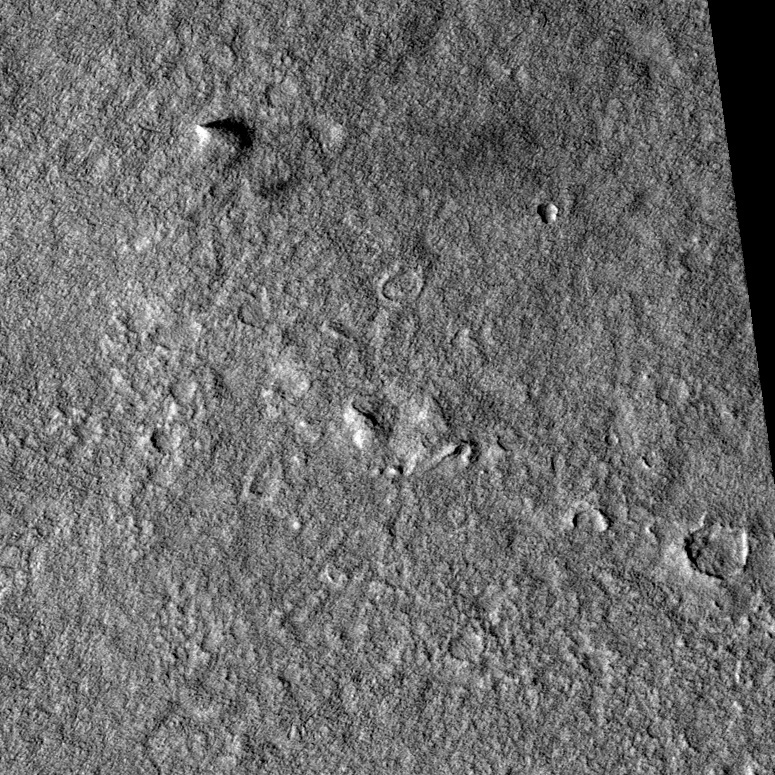dust_devil: (194, 114, 256, 156)
